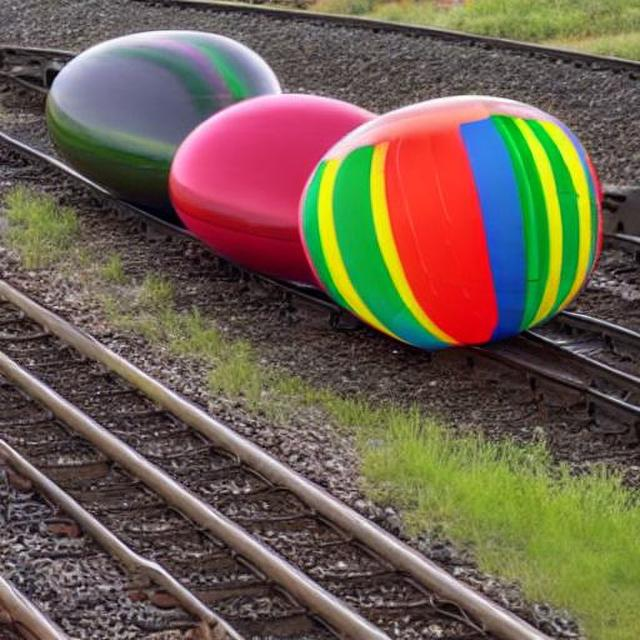balloon: (206, 82, 599, 350), (44, 28, 293, 239)
